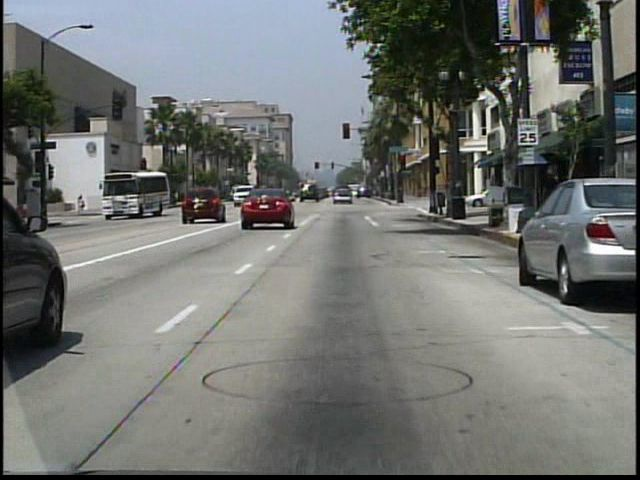person: (77, 194, 88, 215)
